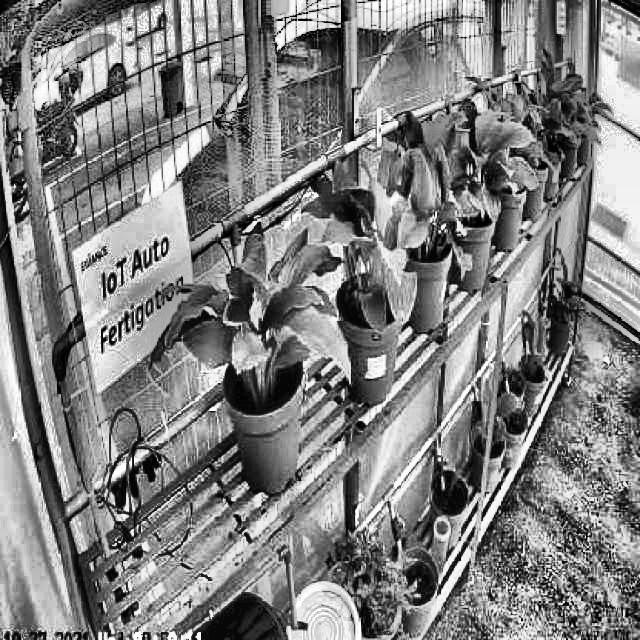plants: (150, 222, 352, 404), (307, 150, 415, 348), (369, 115, 474, 278), (431, 94, 534, 226)
